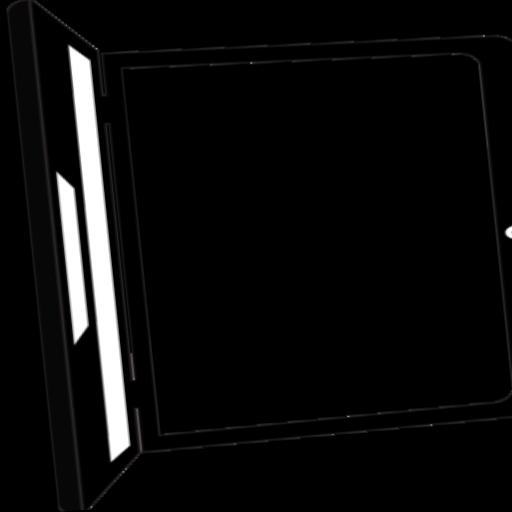Client: (0, 0, 512, 512)
